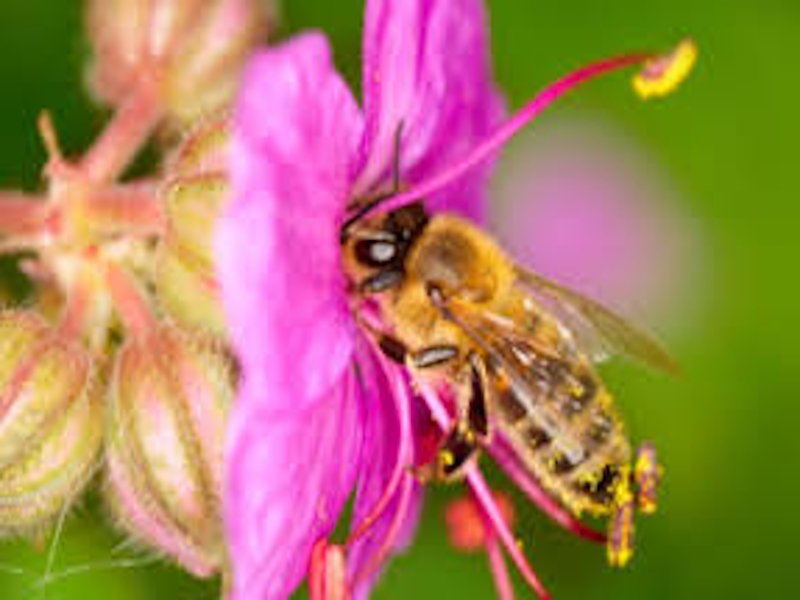abeja: (341, 176, 699, 548)
